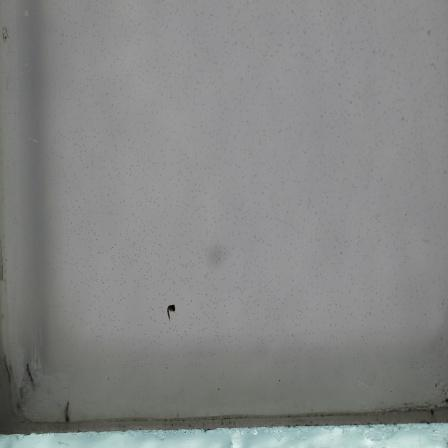Jentik-Nyamuk: (59, 397, 76, 426), (164, 302, 179, 322)
